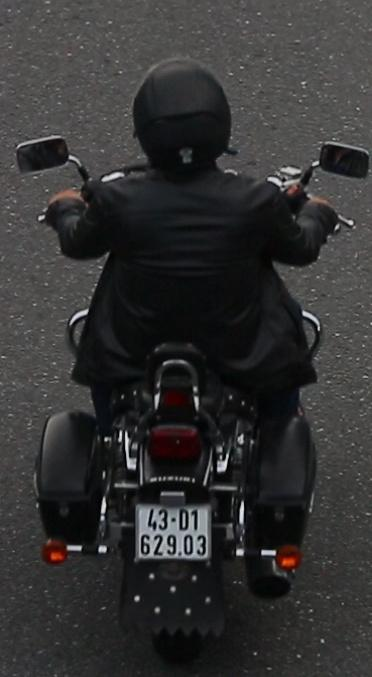LP: (130, 496, 217, 566)
helmet: (127, 51, 239, 180)
